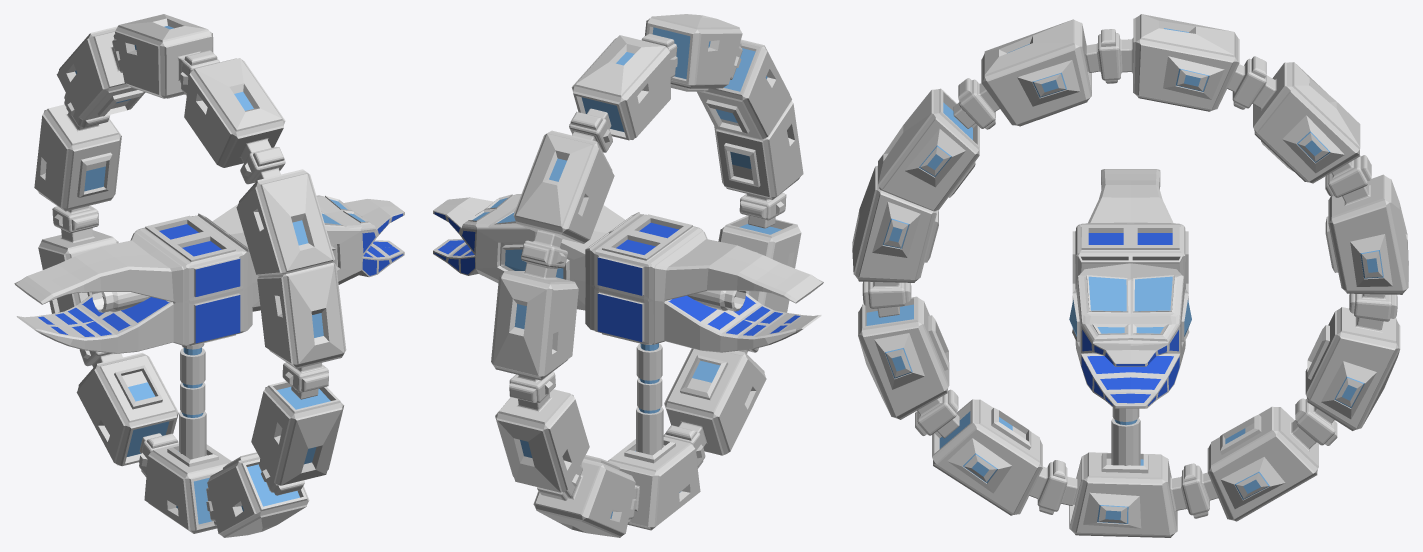
Rendered from Space Ship 1 For Unity.fbx.
3 views of the same model, side by side, from view 1: azimuth 30°, elevation 25°; view 2: azimuth 150°, elevation 25°; view 3: azimuth 270°, elevation 25° (orthographic). The views are drawn at different scales.
Parts seen in each view (by area): view 1: Cube, Cylinder.001, Cylinder; view 2: Cube, Cylinder.001, Cylinder; view 3: Cube, Cylinder.001, Cylinder.
Part boxes in pixels (x1,y1,x2,y2): Cube: (34,14,346,537); Cylinder.001: (14,195,404,353); Cylinder: (179,343,206,459); Cube: (491,14,803,537); Cylinder.001: (433,194,823,352); Cylinder: (636,343,663,455); Cube: (852,14,1408,537); Cylinder.001: (1069,169,1191,408); Cylinder: (1111,407,1140,465).
Size of the model in its own units: 938 by 1154 by 1150.
